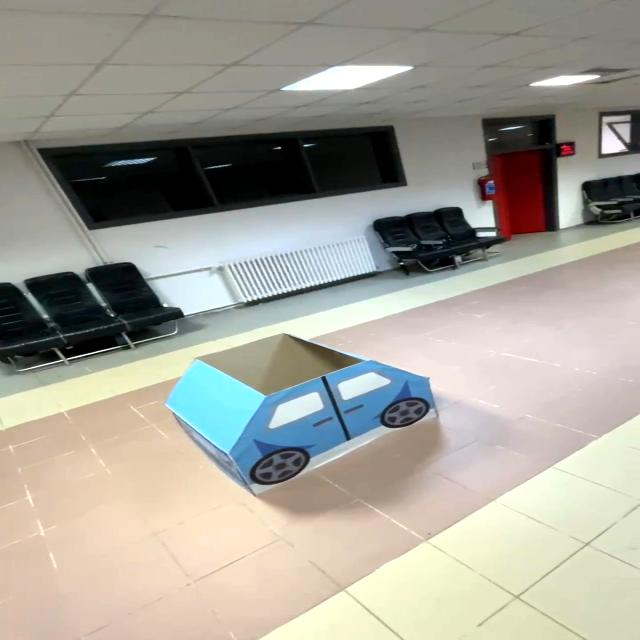blue_car: (137, 319, 464, 506)
